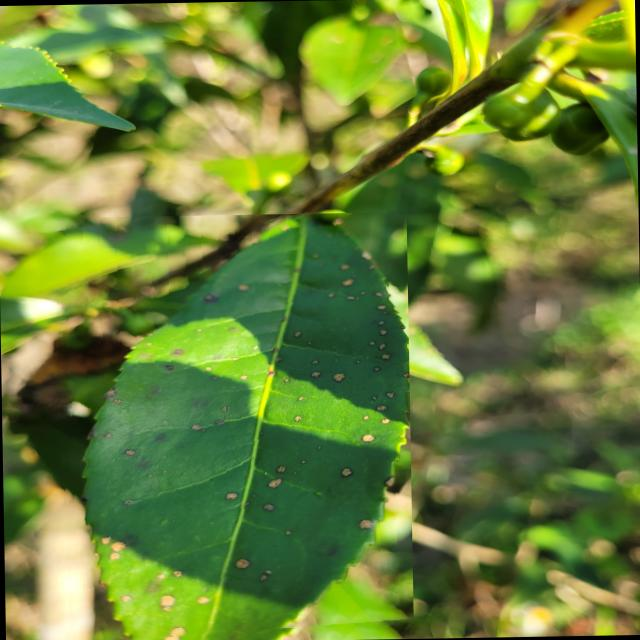Category D(7+ days, Not for Tea): (56, 211, 413, 640)
